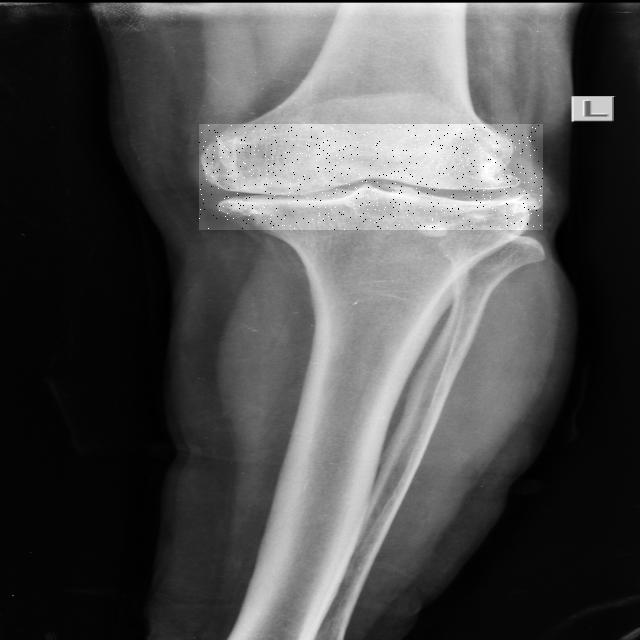normal: (199, 124, 543, 230)
